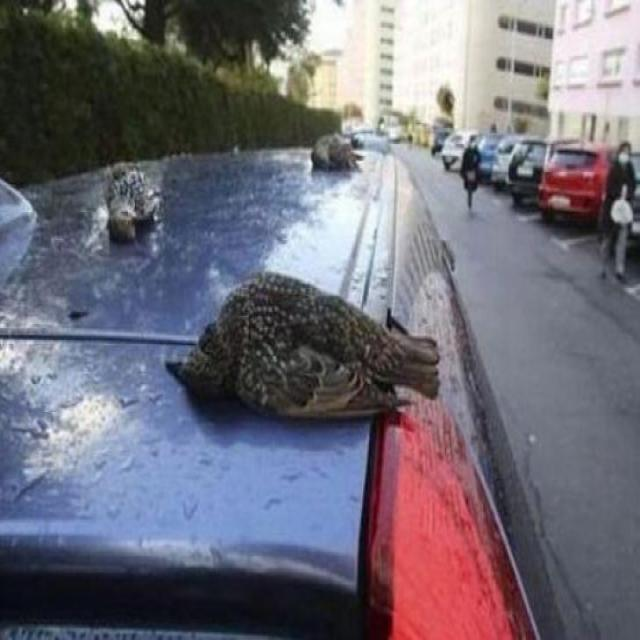Bangkai Burung: (170, 249, 436, 442), (84, 142, 184, 248), (292, 107, 394, 201)
